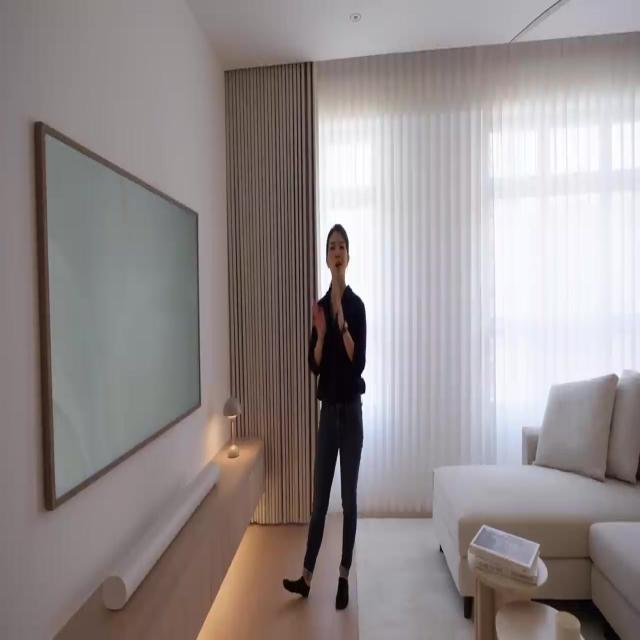obstacle: (432, 368, 640, 620)
person: (283, 223, 367, 611)
